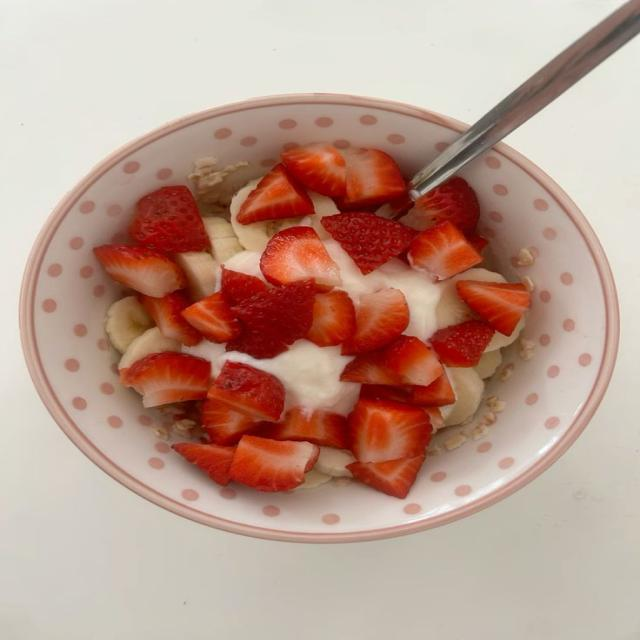banana slice: (230, 179, 302, 252), (436, 268, 505, 328), (105, 296, 154, 352), (118, 327, 181, 369), (172, 251, 217, 302), (444, 367, 483, 425), (203, 217, 243, 264), (310, 192, 338, 239), (486, 319, 524, 351), (315, 447, 355, 476), (295, 468, 331, 490), (473, 350, 501, 378)
strawberry sliced: (321, 213, 416, 274), (129, 186, 210, 252), (348, 398, 432, 461), (234, 280, 315, 344), (260, 227, 340, 290), (230, 436, 319, 491), (120, 353, 210, 407), (94, 245, 186, 297), (237, 164, 314, 225), (207, 362, 285, 421), (342, 288, 409, 354), (408, 221, 482, 279), (404, 177, 479, 234), (339, 149, 406, 210), (456, 280, 529, 335), (260, 408, 349, 449), (281, 143, 346, 197), (139, 291, 202, 345), (347, 455, 425, 498), (182, 292, 241, 342), (430, 320, 494, 366), (384, 336, 443, 385), (307, 290, 355, 346), (173, 443, 235, 486), (200, 400, 258, 445), (340, 350, 402, 385), (221, 266, 267, 305), (405, 372, 455, 407), (227, 331, 287, 358), (360, 384, 412, 402), (424, 408, 444, 432), (467, 235, 488, 253)
